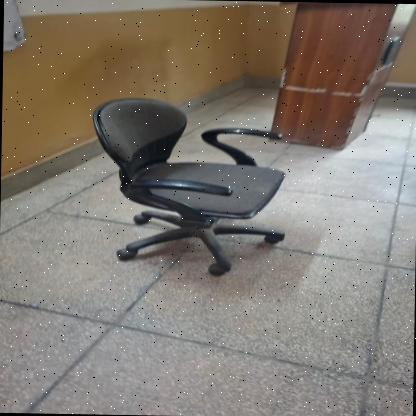chair: (77, 94, 296, 284)
